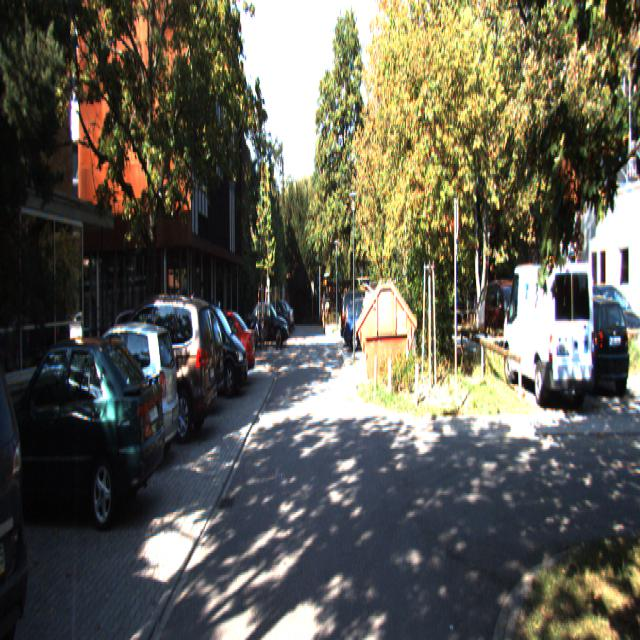Car: (0, 327, 170, 533), (55, 318, 182, 481), (87, 291, 219, 446), (499, 256, 598, 413), (0, 306, 46, 638), (129, 305, 226, 414), (549, 291, 633, 398), (170, 294, 249, 399), (180, 310, 254, 390), (343, 294, 390, 348)
